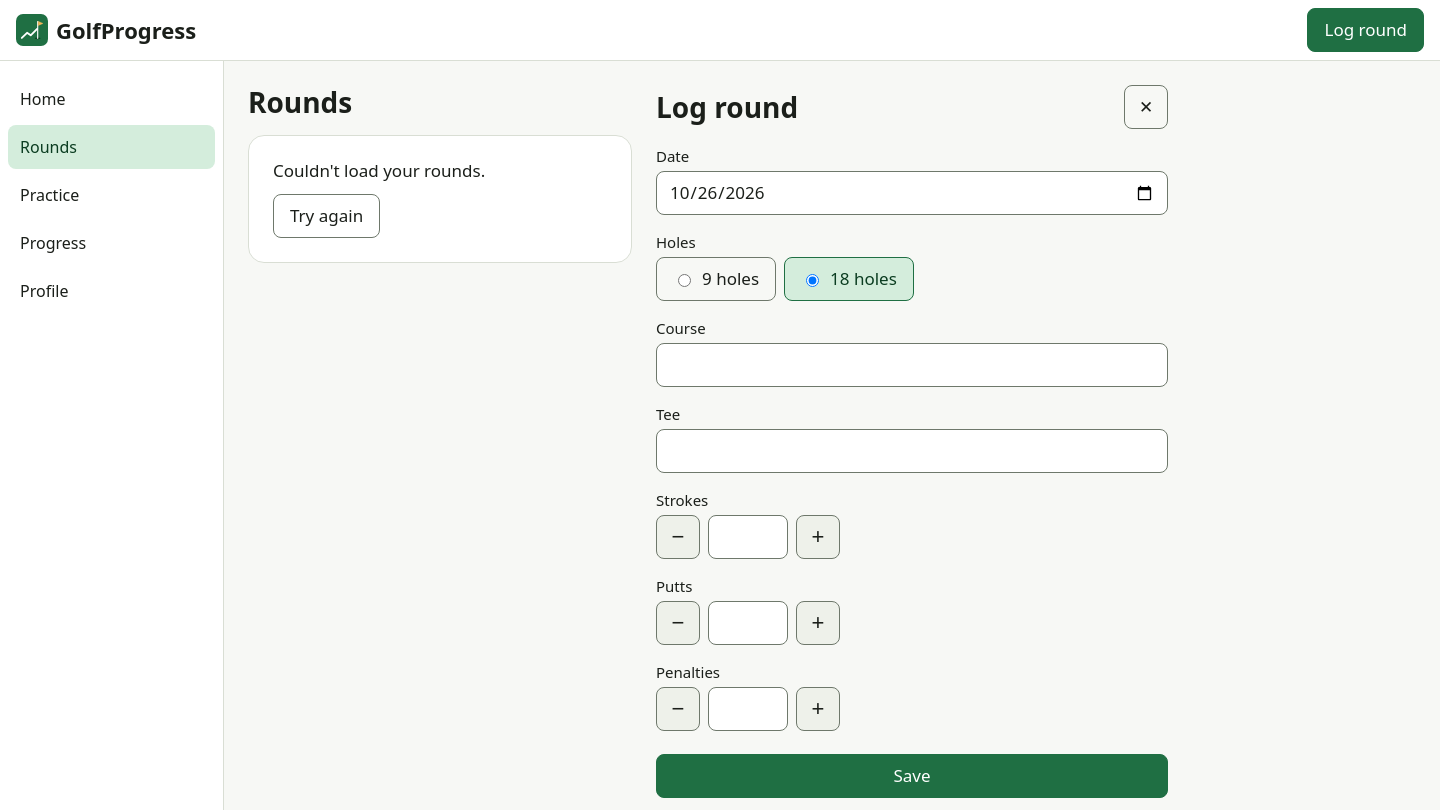
Test: Log round (#92) › on Save, shows what's missing and moves focus to it, without sending
The image size is (1440, 810).
Click the button "Save" at (912, 776), box [656, 754, 1168, 798]
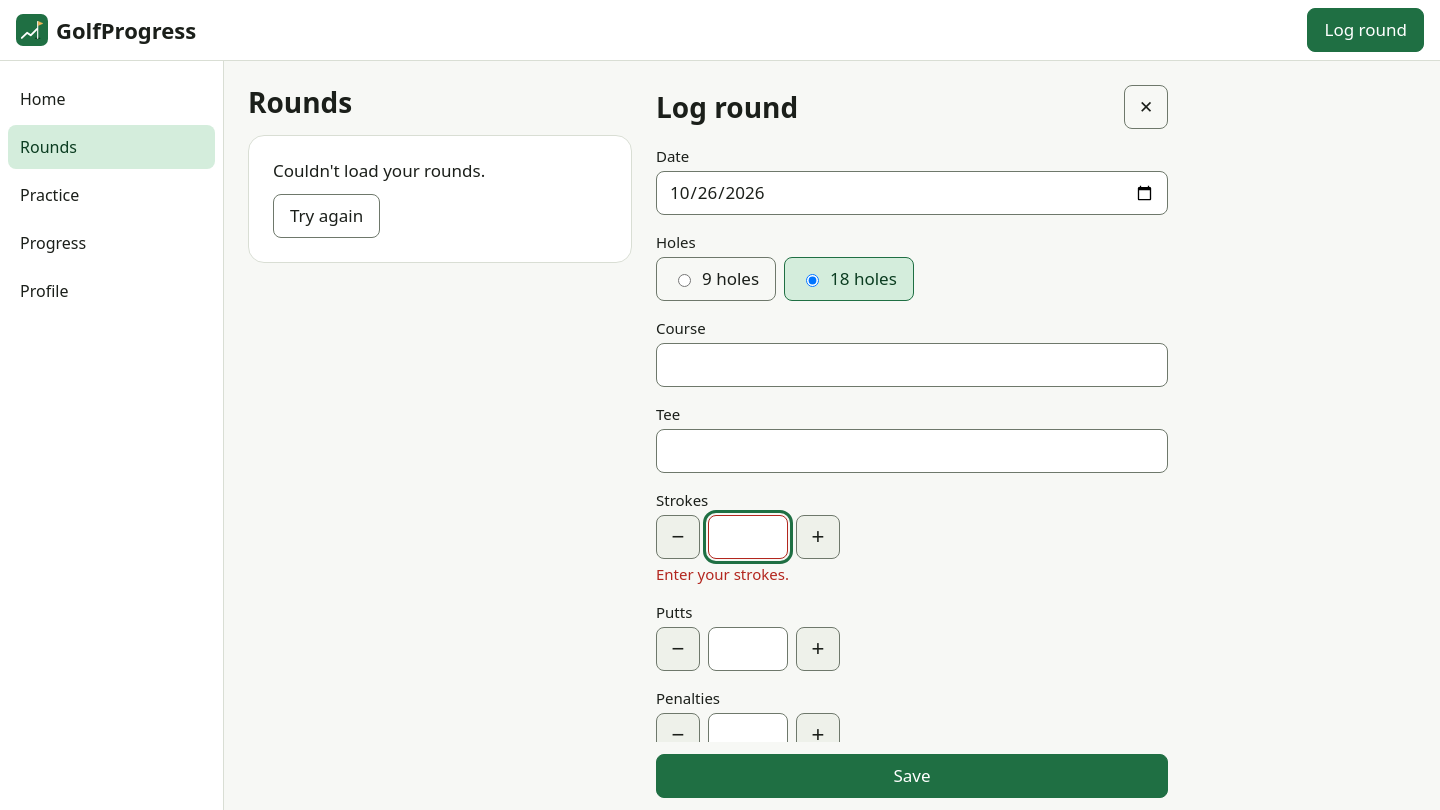
Expected: the text "Enter your strokes." is shown, [656, 564, 789, 584]
